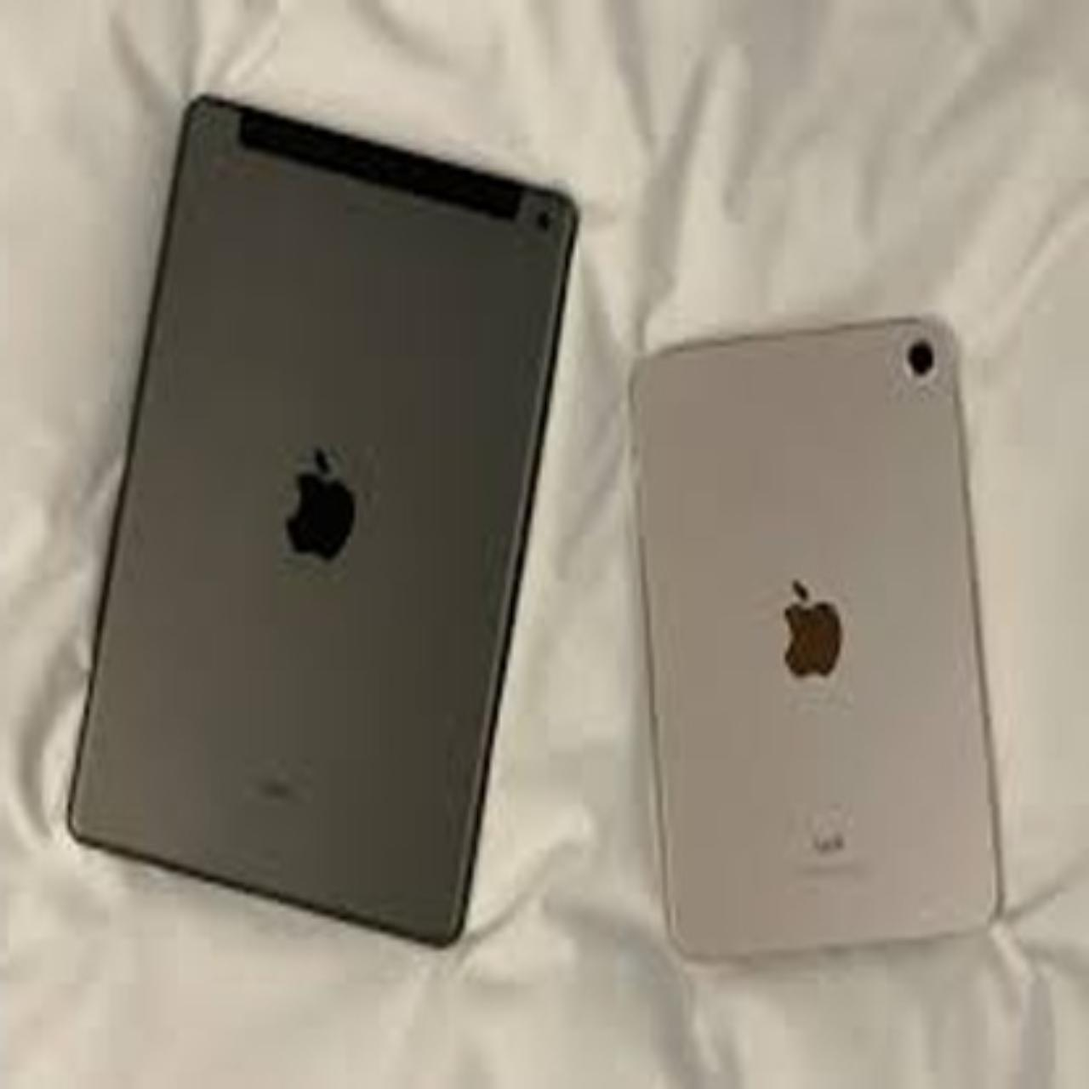Tablet_PC: (60, 87, 591, 972), (631, 301, 1008, 987)
